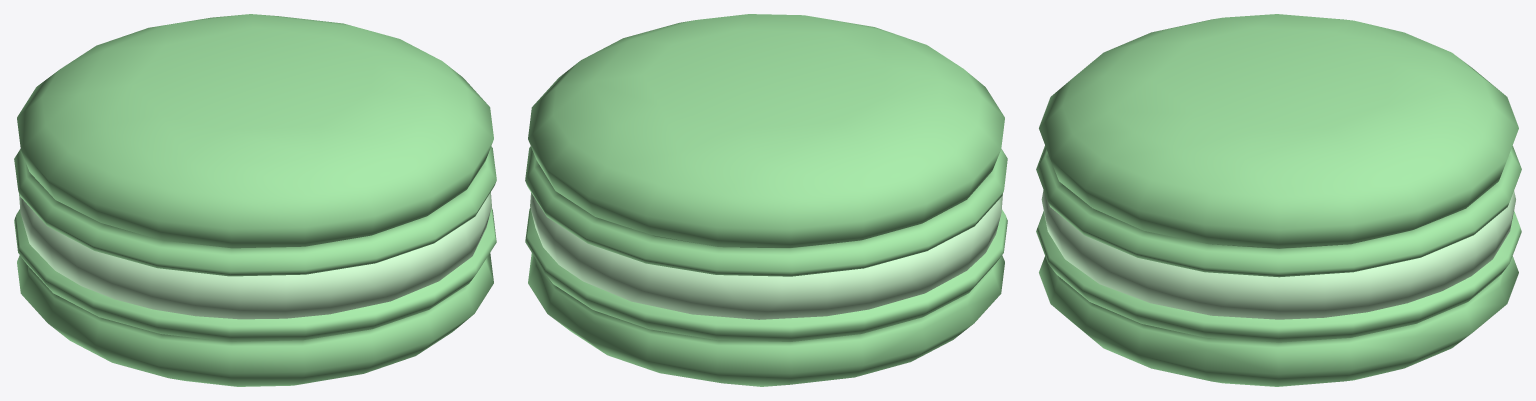
Rendered from makaron.fbx.
3 views of the same model, side by side, from view 1: azimuth 30°, elevation 25°; view 2: azimuth 150°, elevation 25°; view 3: azimuth 270°, elevation 25° (orthographic).
Visible parts, largest first — view 1: Makaron; view 2: Makaron; view 3: Makaron.
Part boxes in pixels (x1,y1,x2,y2): Makaron: (14,14,496,386); Makaron: (525,14,1007,386); Makaron: (1036,14,1521,386).
Bounding box in the file's own units: 19.54 × 10.82 × 19.54.
